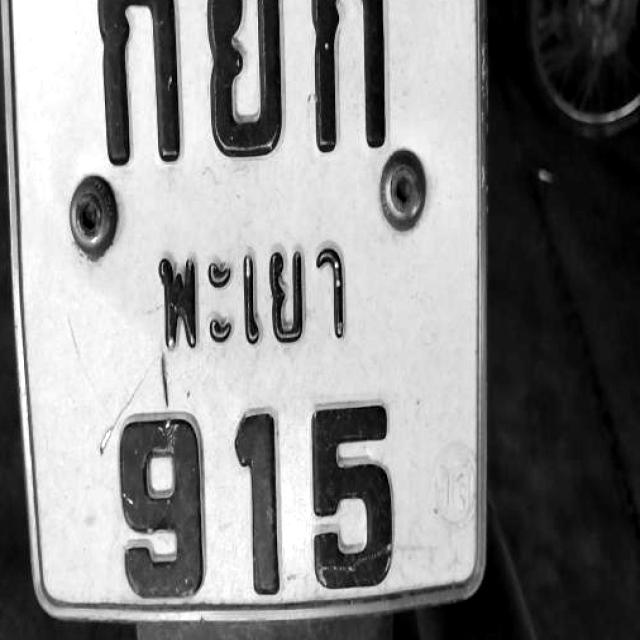letters: (90, 397, 216, 597), (299, 388, 398, 572), (304, 0, 404, 150), (101, 0, 183, 153), (206, 0, 287, 150), (231, 392, 282, 595)
license-plate: (13, 0, 488, 612)
province: (130, 213, 387, 375)
